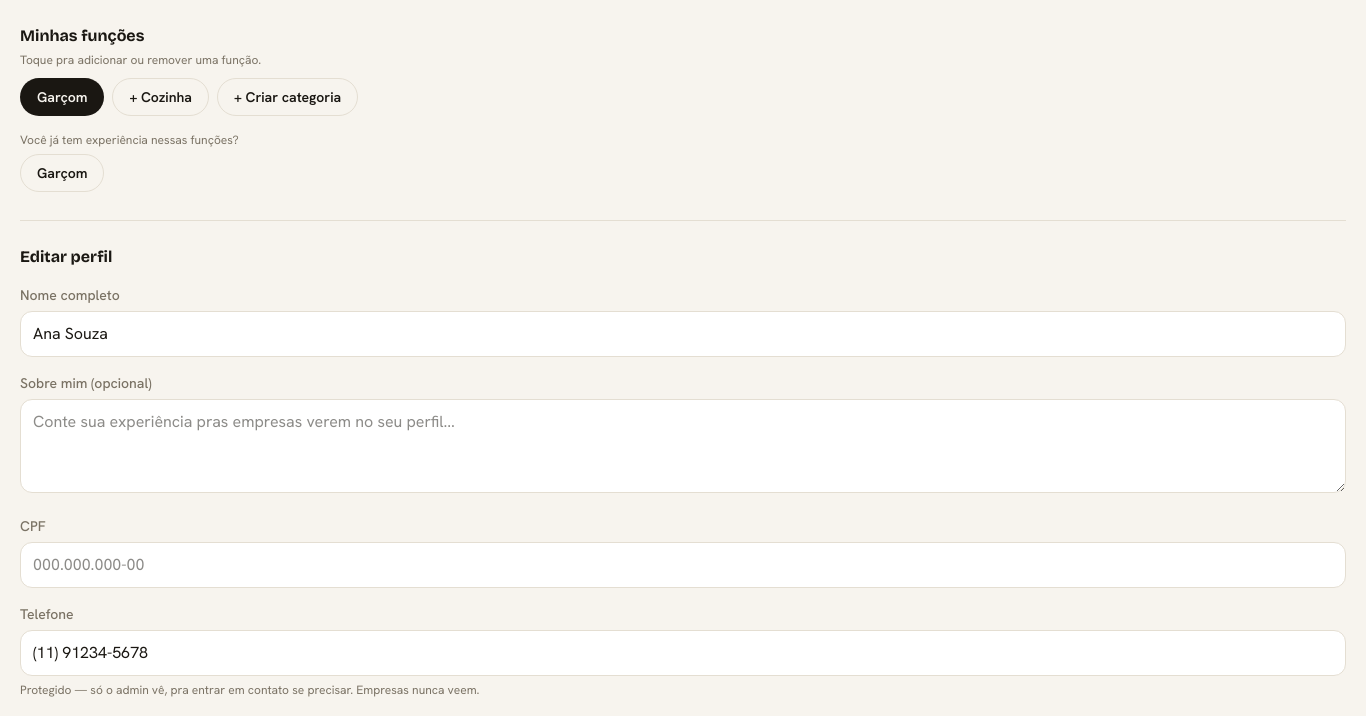
PerfilPage › salva nome, bio e CPF editados
(page scrolled)
Replace the text in the field labelled "Nome completo" with "Ana Souza Lima" at x=683, y=334, box [20, 311, 1346, 357]
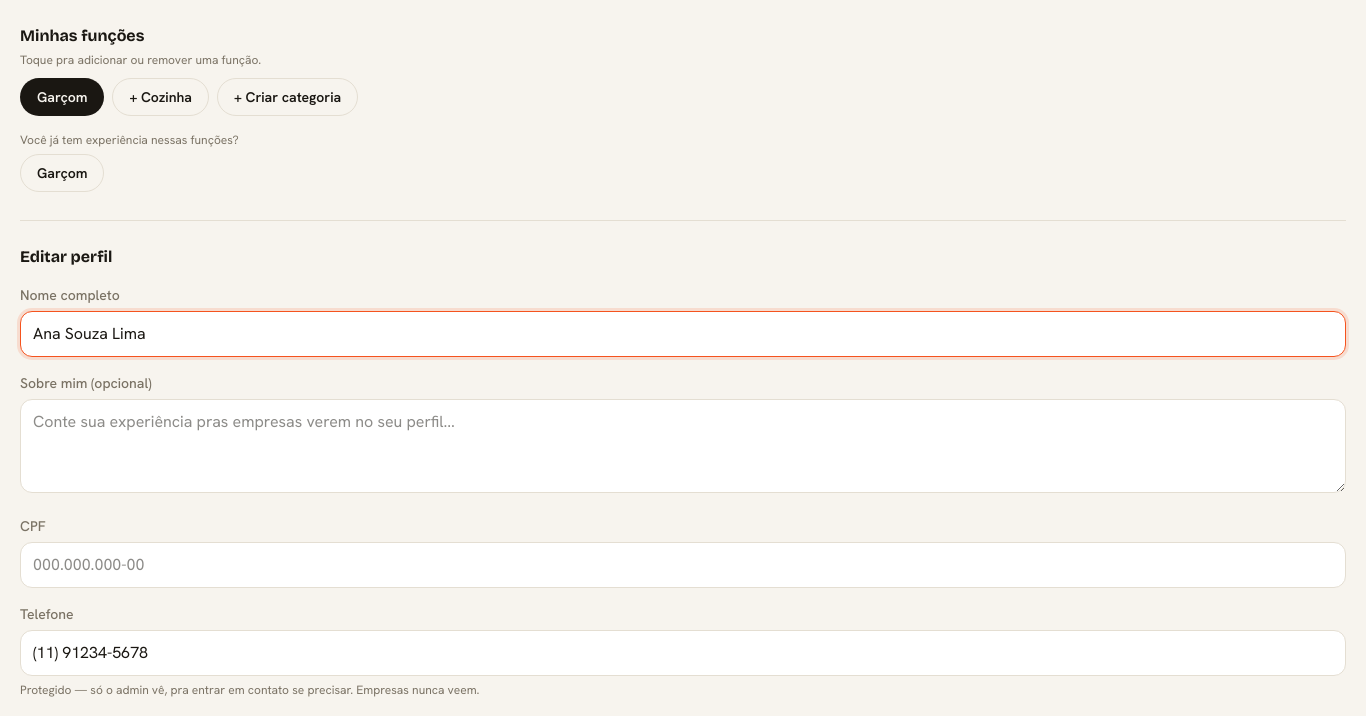
Type "Garçonete com experiência em eventos." into the text box labelled "Sobre mim (opcional)".
click(683, 446); type("Garçonete com experiência em eventos.")  # box [20, 399, 1346, 493]
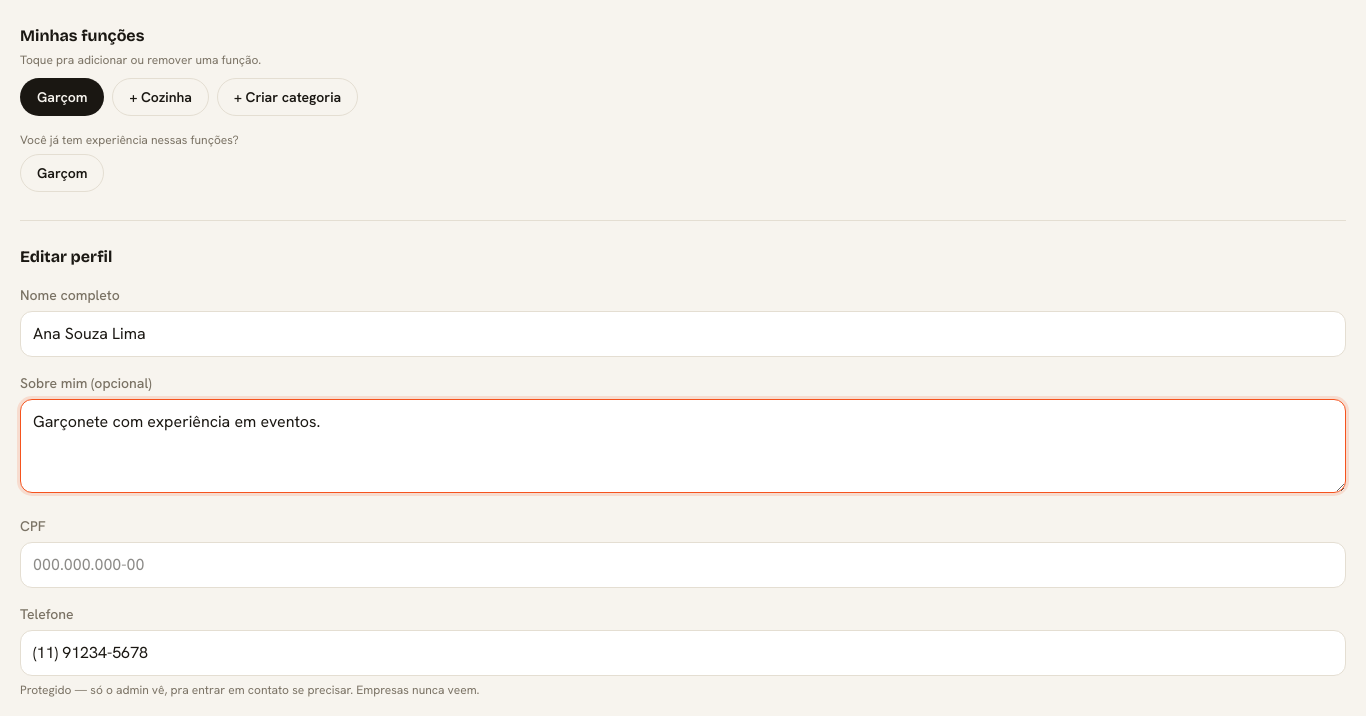
Type "11122233344" into the field labelled "CPF".
click(683, 565); type("11122233344")  # box [20, 542, 1346, 588]
(page scrolled)
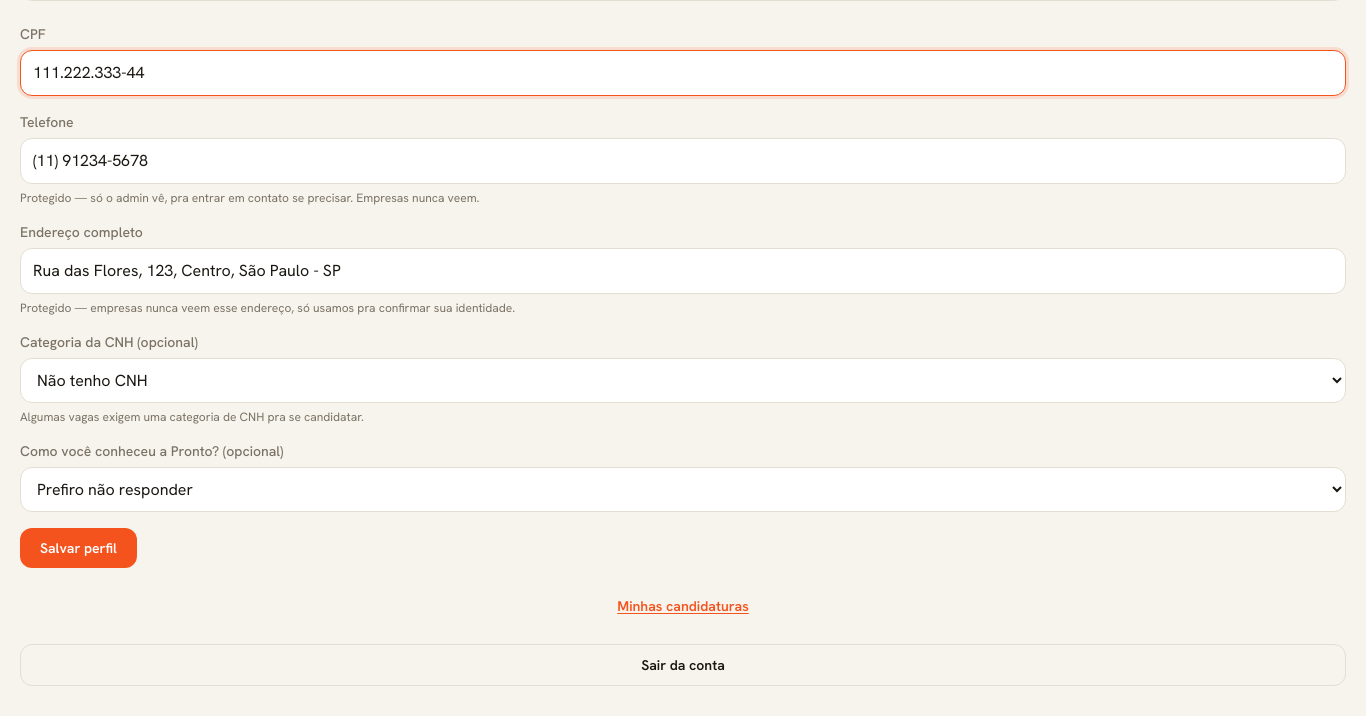
Click the button "Salvar perfil".
click(78, 548)  # box [20, 528, 137, 568]
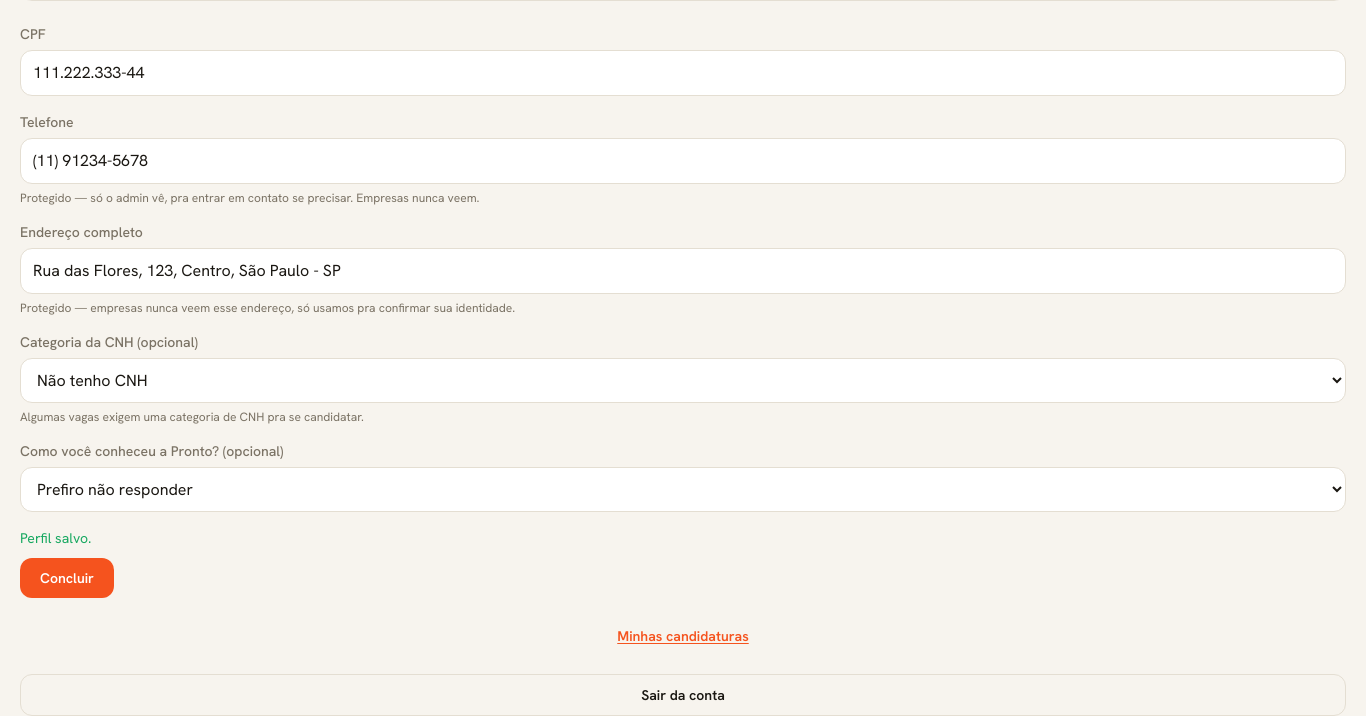
Expected: the text "Perfil salvo." is shown, [20, 529, 92, 547]
